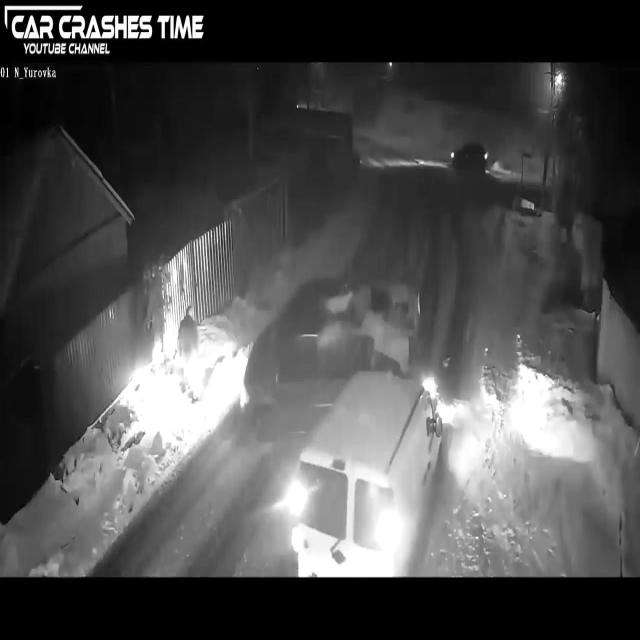accident: (242, 266, 448, 578)
